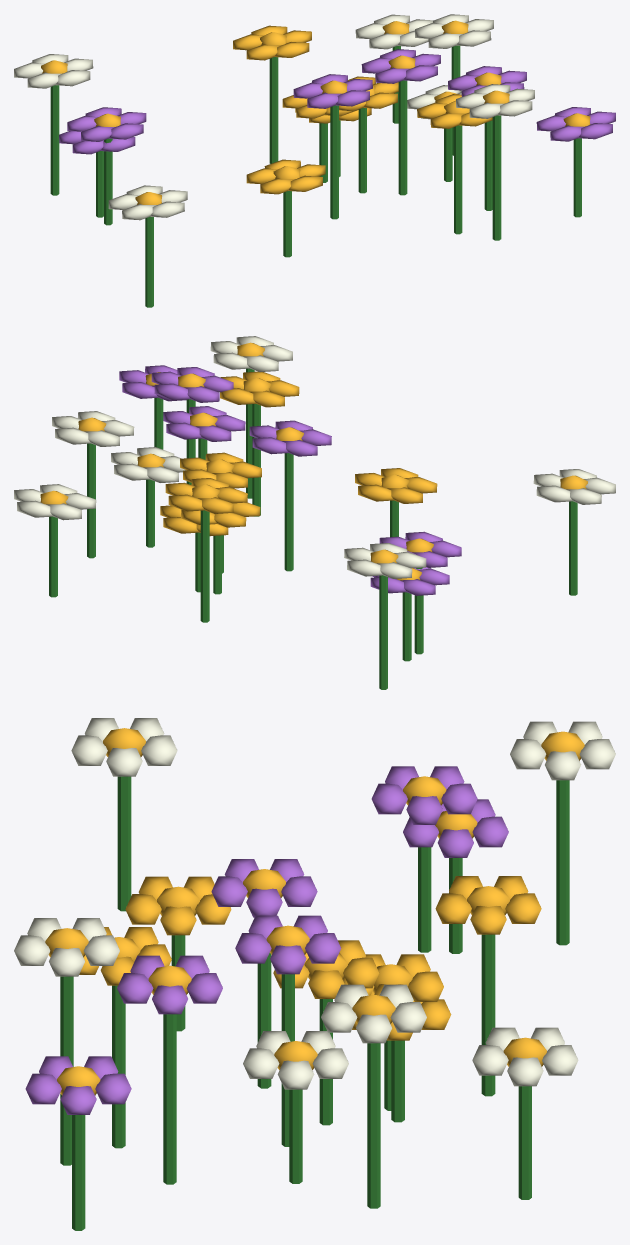
File: LakesideFlowerPatch.fbx
The picture shows the model from 3 angles, top to bottom: view 1: azimuth 30°, elevation 25°; view 2: azimuth 150°, elevation 25°; view 3: azimuth 270°, elevation 25°; orthographic projection. The views are drawn at different scales.
Parts seen in each view (by area): view 1: LakesideFlowerPatch; view 2: LakesideFlowerPatch; view 3: LakesideFlowerPatch.
Boxes of the visible parts, x1,y1,x2,y2 form: LakesideFlowerPatch: (14, 14, 615, 307); LakesideFlowerPatch: (14, 336, 615, 689); LakesideFlowerPatch: (14, 718, 615, 1230).
Size of the model in its own units: 1.58 by 0.4604 by 1.07.
